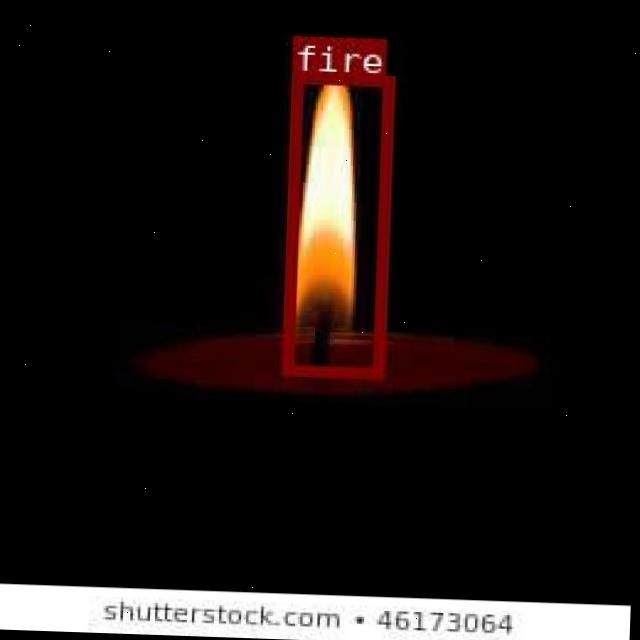fire: (280, 71, 392, 376)
